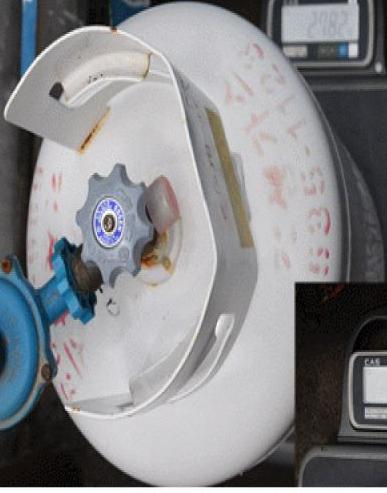cylinder: (1, 1, 387, 493)
